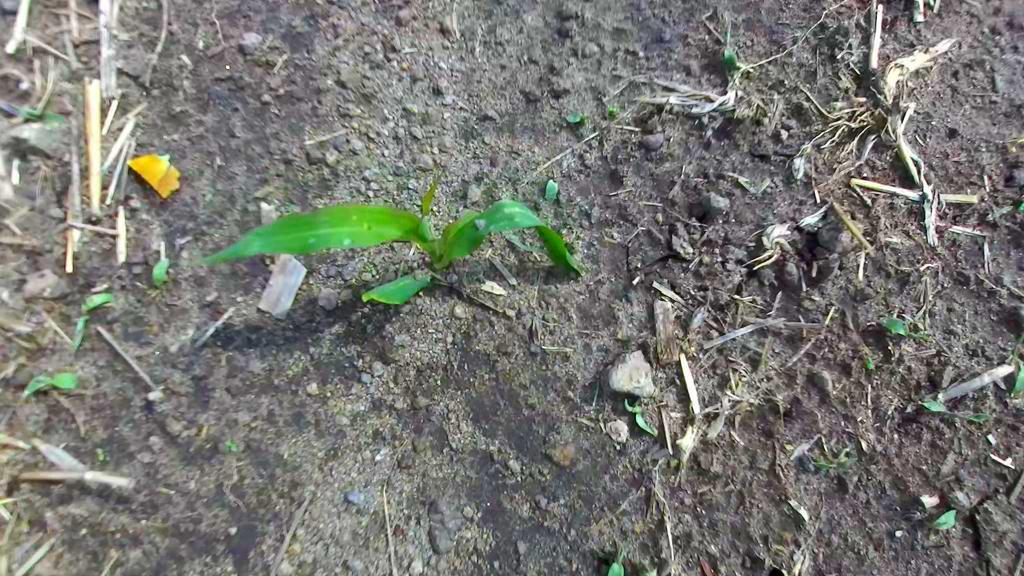BroWeed: (56, 281, 116, 351), (17, 366, 81, 402), (875, 310, 931, 346), (620, 393, 660, 441), (915, 388, 954, 428), (8, 104, 65, 125), (634, 442, 666, 474), (921, 509, 960, 535), (782, 496, 815, 523), (607, 538, 626, 576), (717, 42, 740, 73), (824, 444, 854, 467), (151, 256, 169, 288), (811, 454, 838, 475), (986, 201, 1014, 220), (955, 411, 990, 422), (544, 179, 559, 203), (563, 108, 583, 125), (603, 104, 621, 122), (639, 559, 658, 576), (223, 437, 239, 453), (93, 444, 107, 462), (363, 261, 374, 270), (867, 356, 874, 369), (369, 267, 377, 276), (1017, 201, 1024, 211)
Maize: (180, 141, 585, 335)
